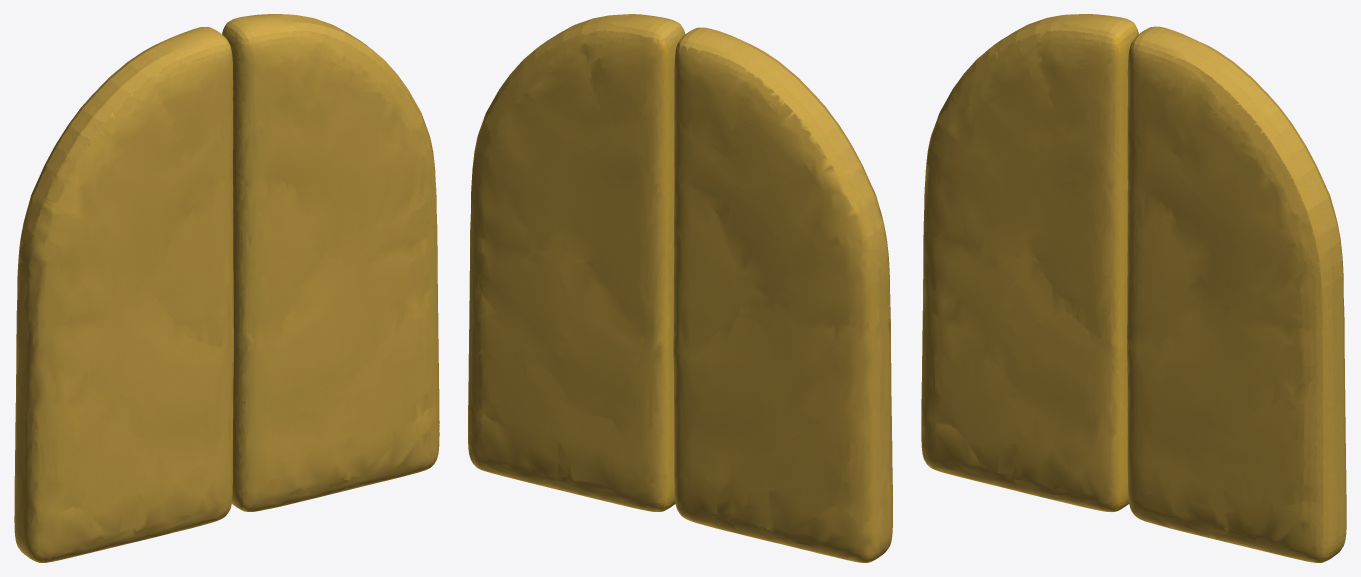
File: CampTentDoor.glb
3 views of the same model, side by side, from view 1: azimuth 30°, elevation 25°; view 2: azimuth 150°, elevation 25°; view 3: azimuth 330°, elevation 25° (orthographic).
Visible parts, largest first — view 1: tripo_node_fbf6669c-e246-4dc4-97be-32f65fa944d5; view 2: tripo_node_fbf6669c-e246-4dc4-97be-32f65fa944d5; view 3: tripo_node_fbf6669c-e246-4dc4-97be-32f65fa944d5.
Boxes of the visible parts, x1,y1,x2,y2 form: tripo_node_fbf6669c-e246-4dc4-97be-32f65fa944d5: (14,14,439,562); tripo_node_fbf6669c-e246-4dc4-97be-32f65fa944d5: (468,14,892,562); tripo_node_fbf6669c-e246-4dc4-97be-32f65fa944d5: (921,14,1346,562).
Bounding box in the file's own units: 0.8677 × 0.9798 × 0.1175.
1 material, 1 textured.
